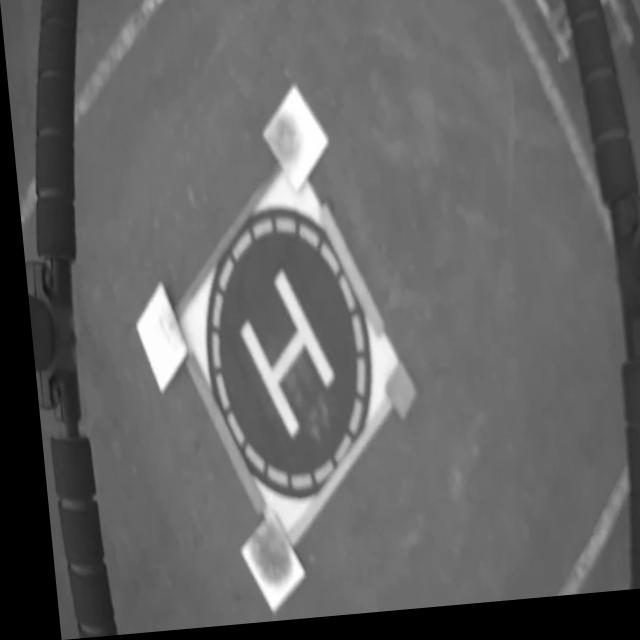Helipad: (234, 272, 327, 445)
